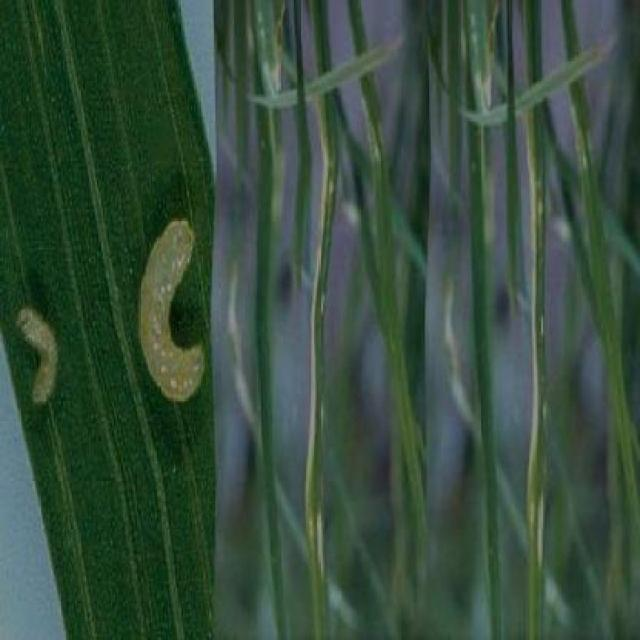whorl-maggot: (130, 215, 212, 414), (15, 296, 62, 418)
